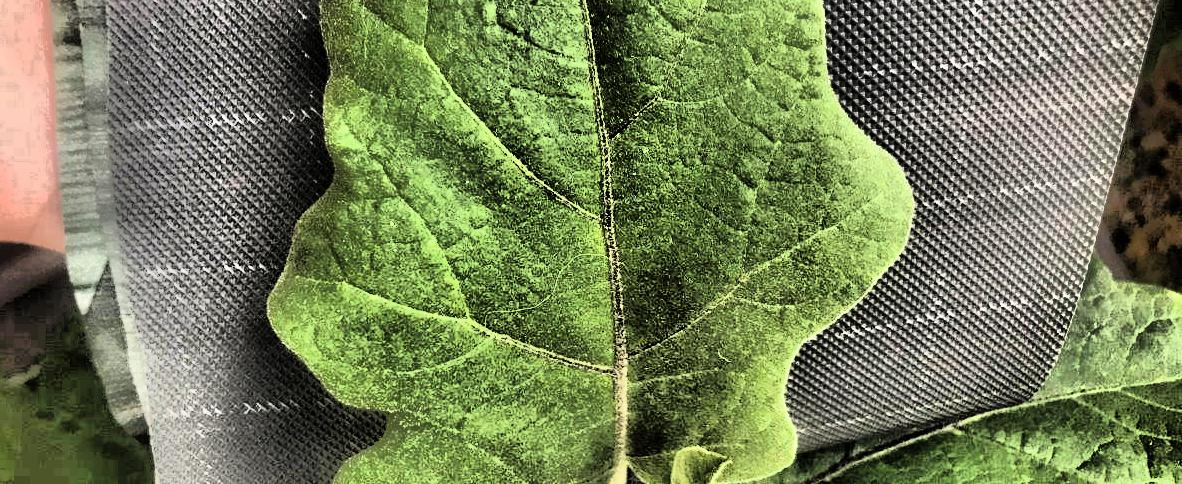HEALTHY: (0, 93, 862, 484)
